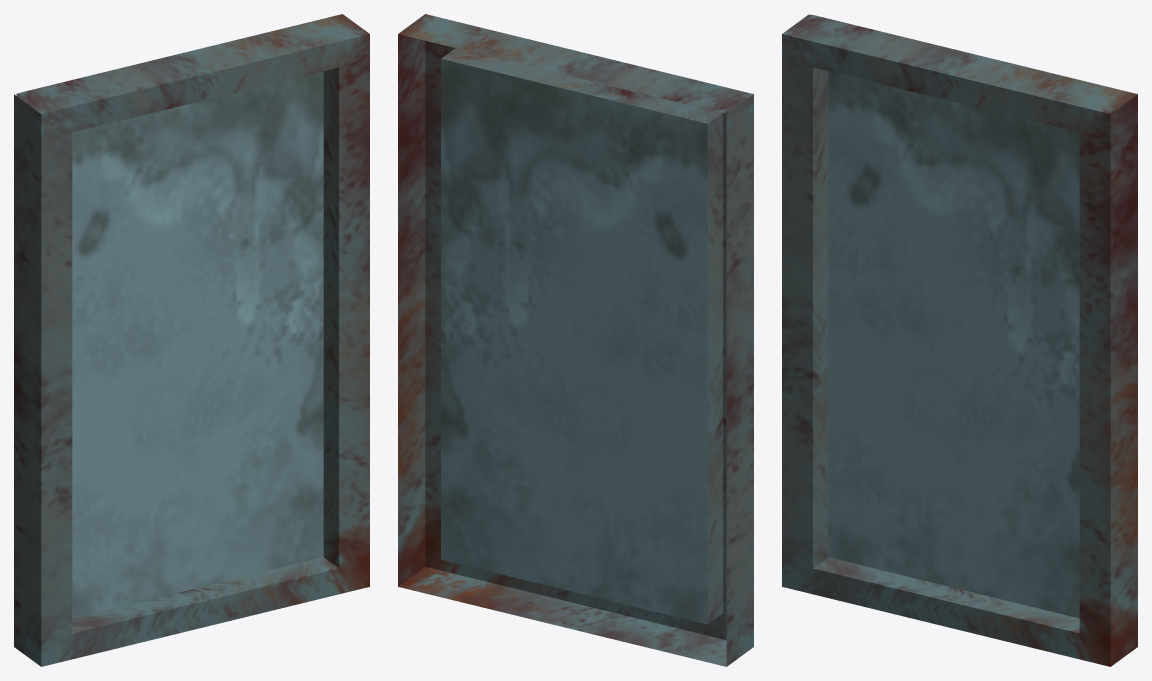
Rendered from JanelaPequetita.fbx.
3 views of the same model, side by side, from view 1: azimuth 30°, elevation 25°; view 2: azimuth 150°, elevation 25°; view 3: azimuth 330°, elevation 25° (orthographic).
Visible parts, largest first — view 1: JanelaPequetita; view 2: JanelaPequetita; view 3: JanelaPequetita.
Part boxes in pixels (box(x1,y1,x2,y2)): JanelaPequetita: box(14, 14, 369, 666); JanelaPequetita: box(398, 14, 753, 666); JanelaPequetita: box(782, 14, 1137, 666).
Size of the model in its own units: 200 by 321 by 28.8.
